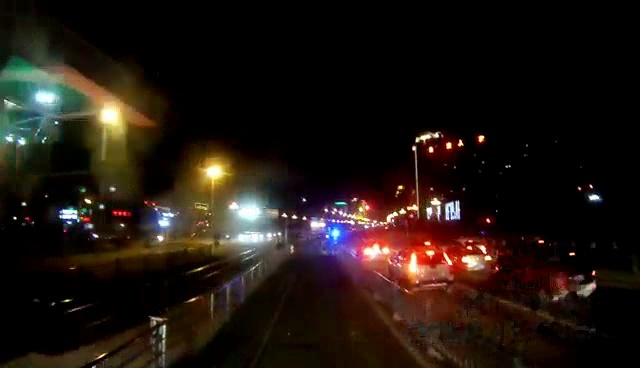car: (389, 244, 458, 287), (546, 247, 600, 299), (444, 241, 497, 275), (361, 239, 391, 264)
